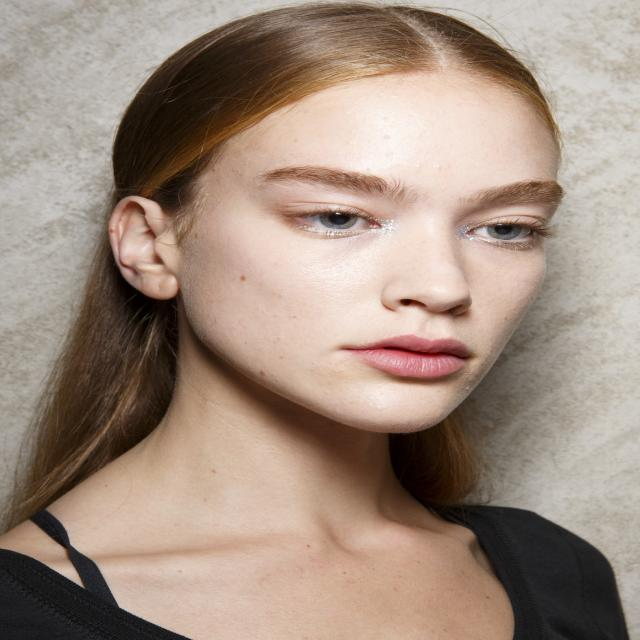earlobe: (138, 264, 178, 300)
eye: (290, 208, 390, 235), (466, 217, 546, 244)
nose: (388, 296, 486, 336)
wholeear: (106, 195, 179, 299)
